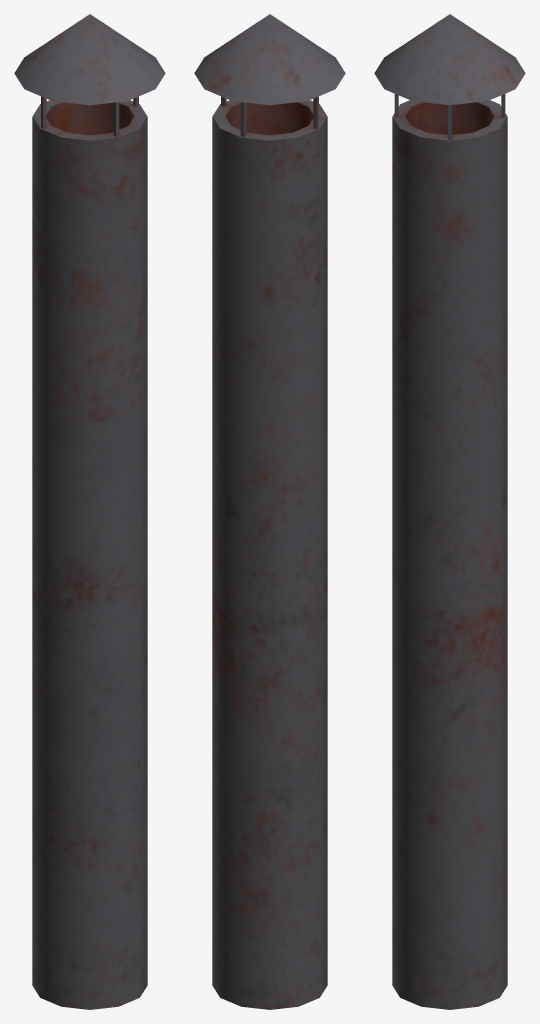
The model's file is sb_obj_outdoor028_chimney02.fbx.
3 renders of one model, left to right at view 1: azimuth 30°, elevation 25°; view 2: azimuth 150°, elevation 25°; view 3: azimuth 270°, elevation 25°, orthographic.
Visible parts, largest first — view 1: 円柱; view 2: 円柱; view 3: 円柱.
Boxes of the visible parts, bbox=[...] form: 円柱: bbox=[14, 14, 165, 1009]; 円柱: bbox=[194, 14, 345, 1009]; 円柱: bbox=[374, 14, 525, 1009].
Bounding box in the file's own units: 0.2842 × 2.01 × 0.2842.
